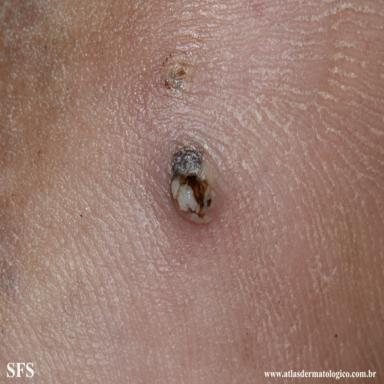Tungiasis: (169, 146, 217, 223), (162, 55, 188, 90)
